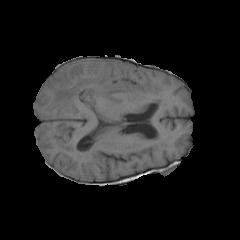glioma: (49, 63, 136, 115)
